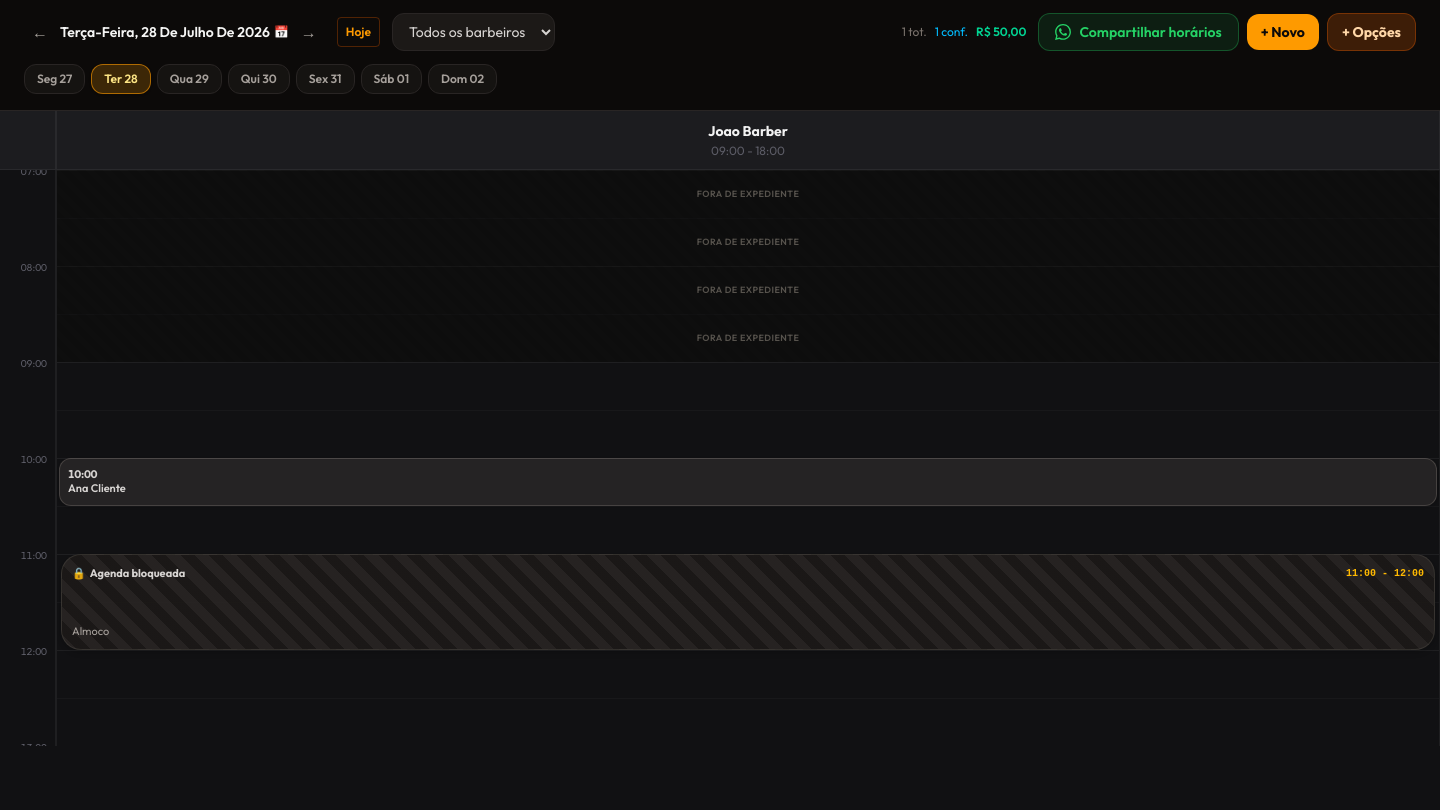
Test: Agenda operations UI › exclusao visual do Appointment remove item
The width and height of the screenshot is (1440, 810).
What coordinates should you click on to do the following:
click the text "Ana Cliente"
I would click on:
 (97, 488)
Its box is [68,481,126,495].
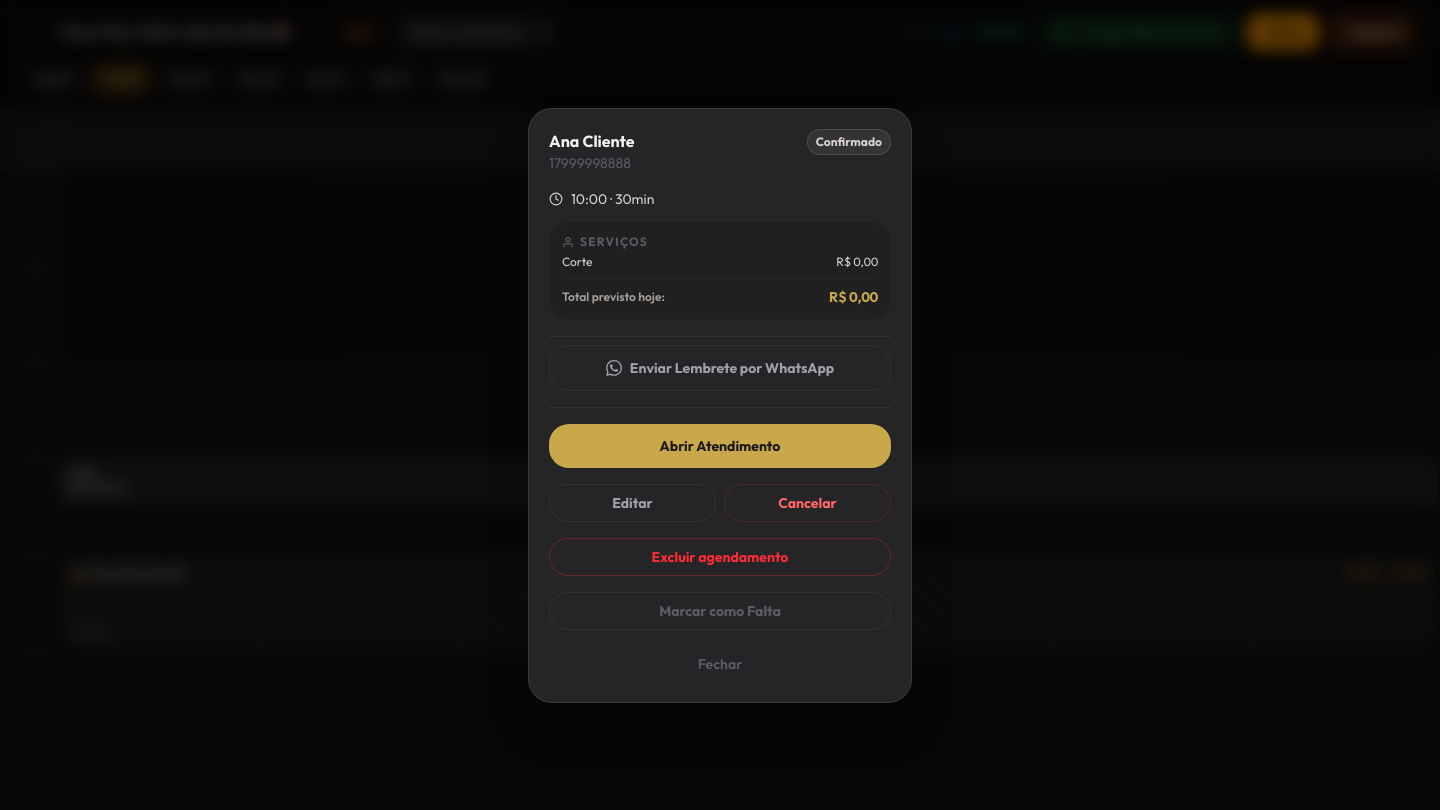
What coordinates should you click on to do the following:
click the button "Excluir agendamento"
I would click on:
 (720, 556)
Its box is [549,538,891,576].
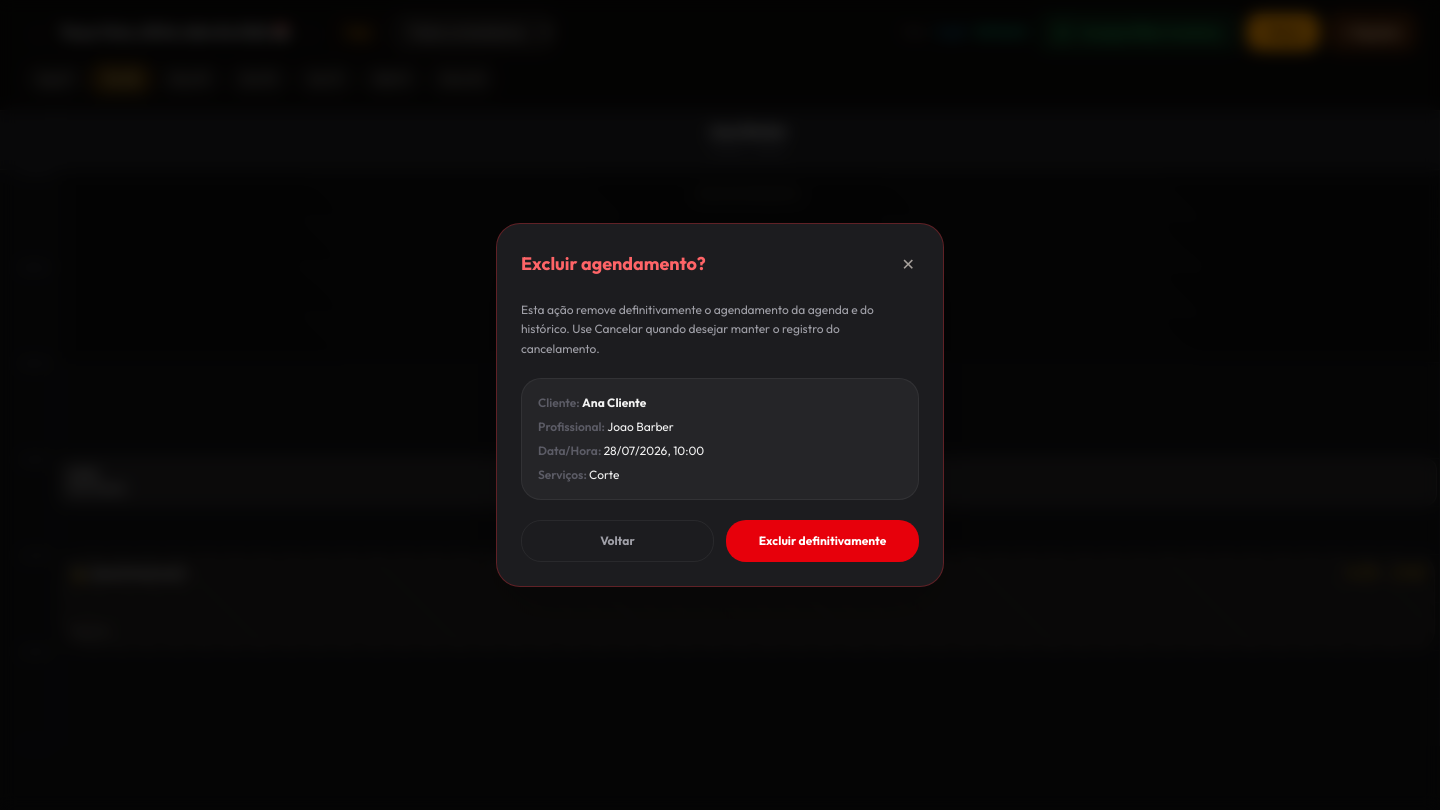
What coordinates should you click on to do the following:
click the button "Excluir definitivamente"
I would click on:
 (822, 541)
Its box is [726,520,919,562].
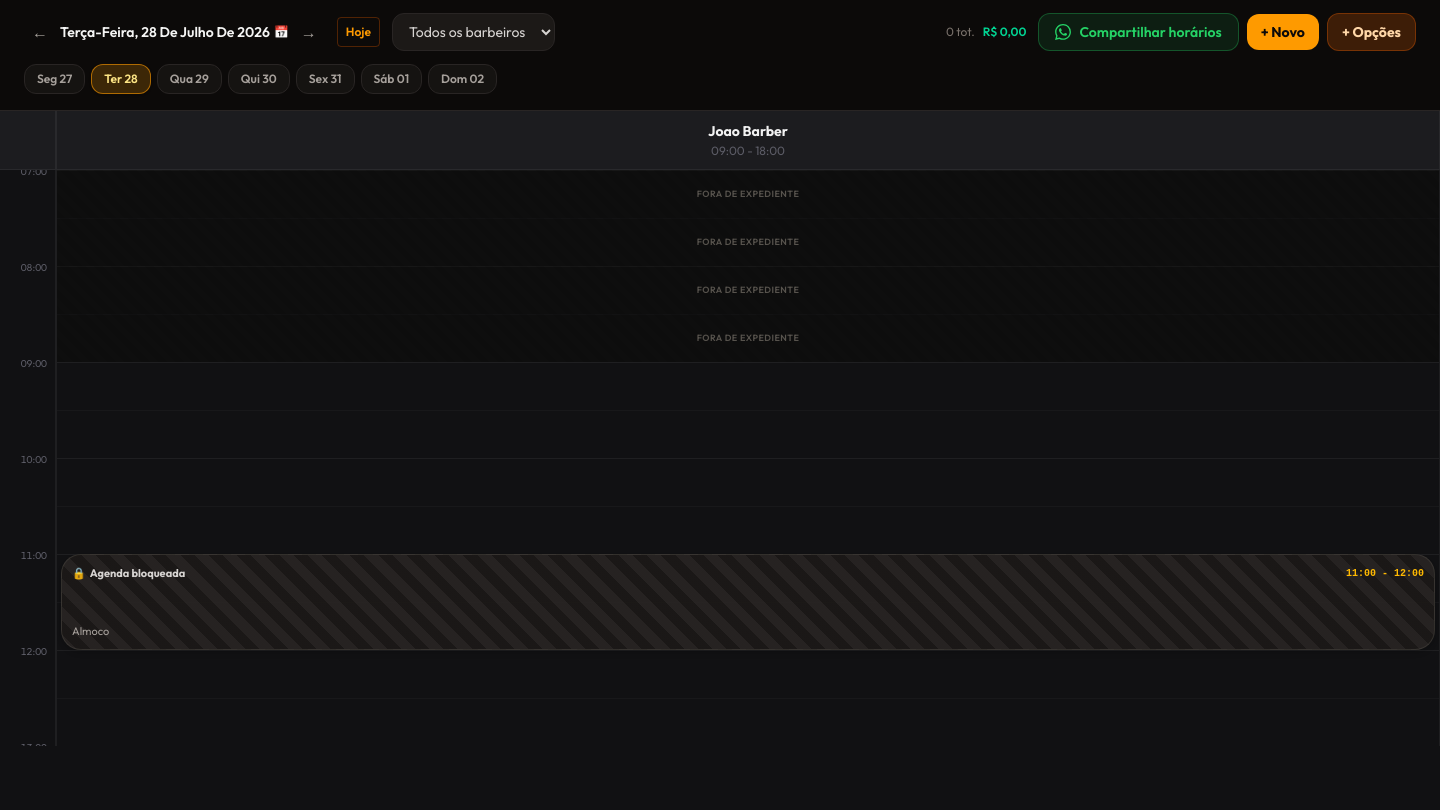
Expected: the text "Ana Cliente" is gone
